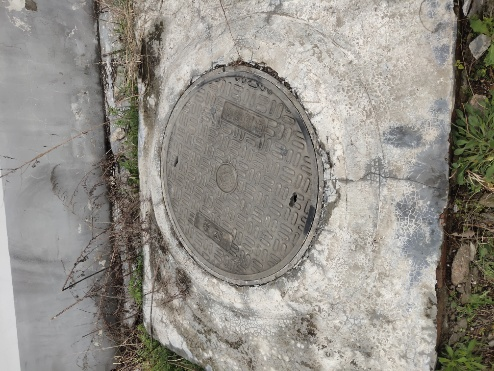good: (162, 68, 322, 286)
